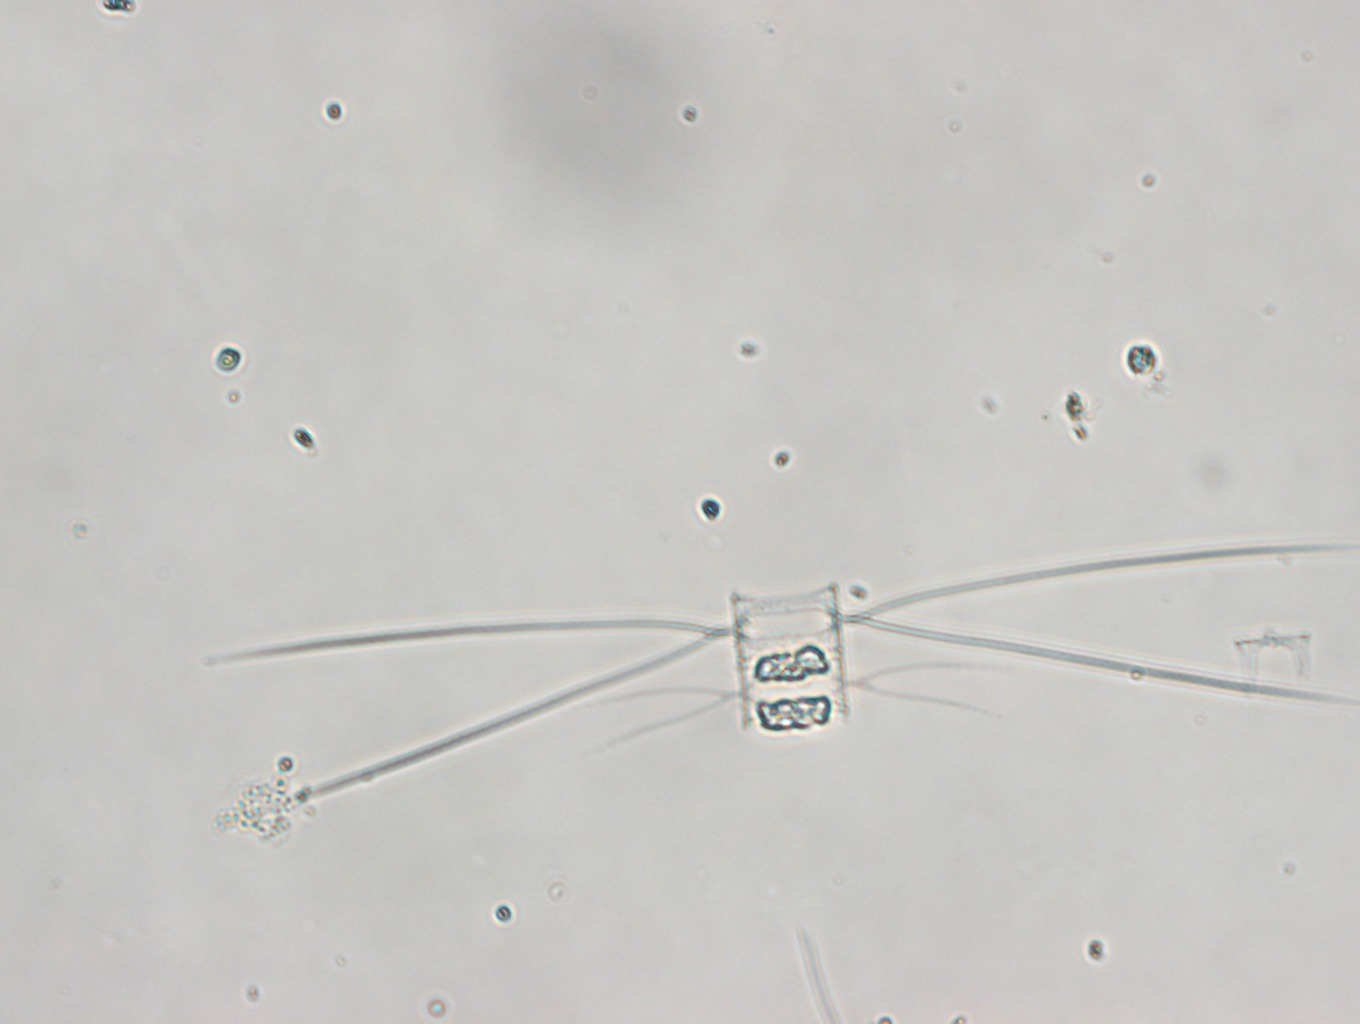chaetoceros: (210, 542, 1360, 812)
